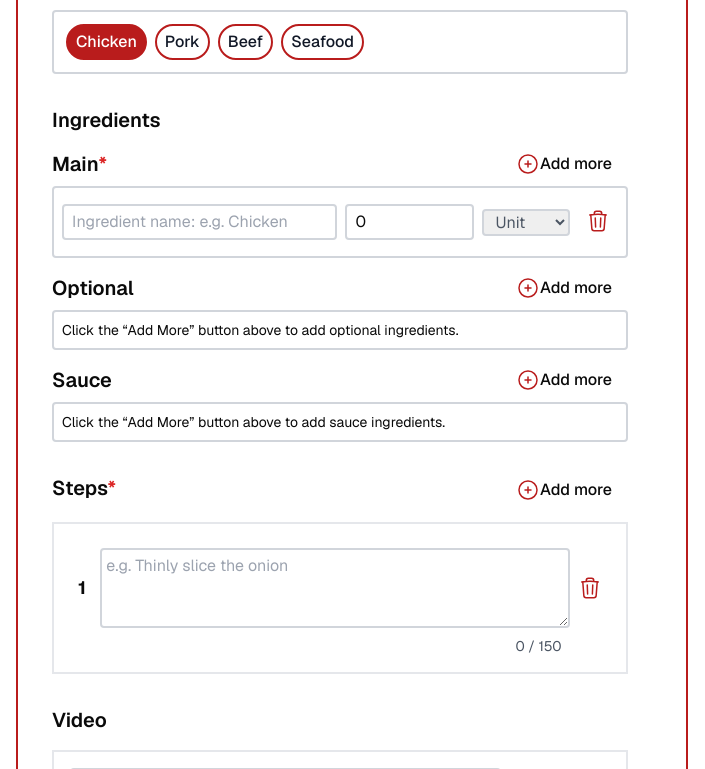
Scenario: RecipeForm › Should display more "sauce ingredients" inputs when the "Add more" button is clicked
The image size is (705, 769).
(page scrolled)
Expected: the field with placeholder "Ingredient name: e.g. Vinegar" is not shown
Step 1. Click the button with aria-label "add more sauce ingredient input button" → click(564, 380), box [508,366,620,394]
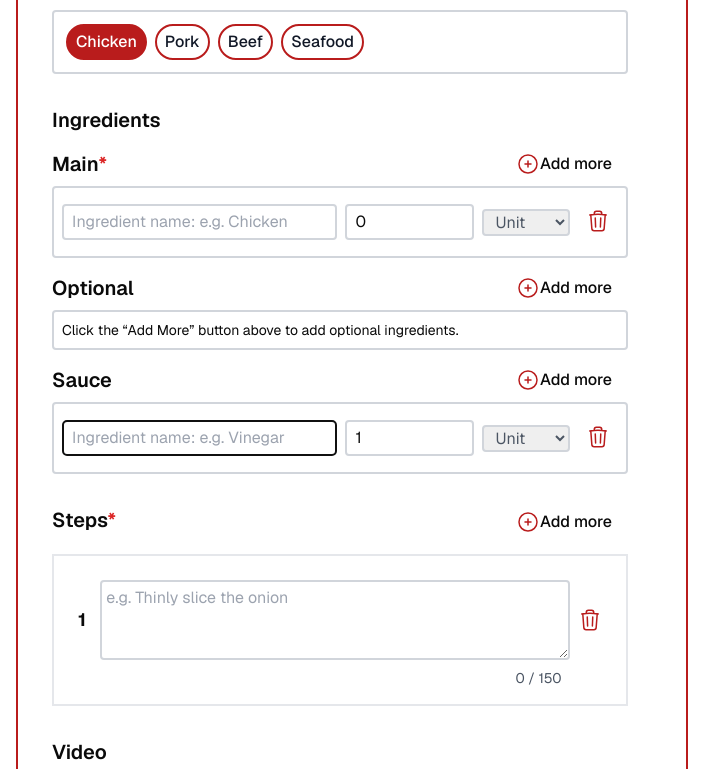
Expected: the number of fields with placeholder "Ingredient name: e.g. Vinegar" is 1, [62,420,337,456]
